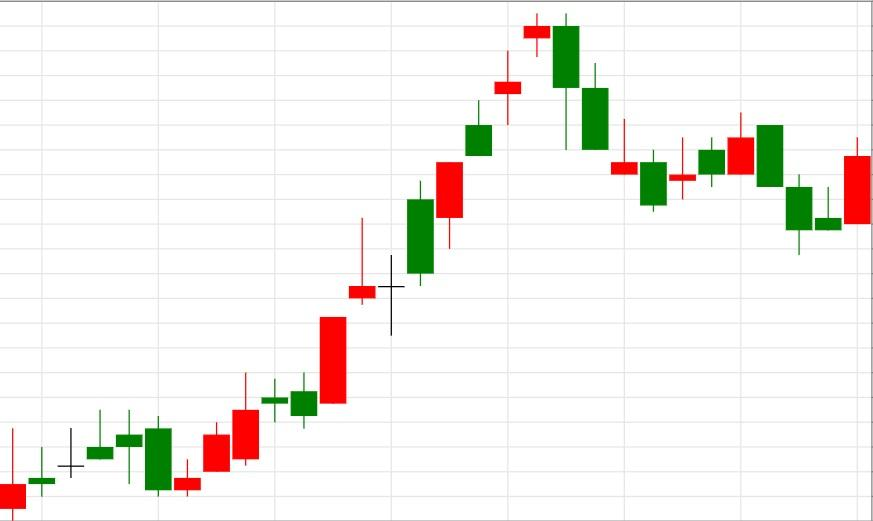bearish_engulfing_fall: (145, 13, 580, 496)
